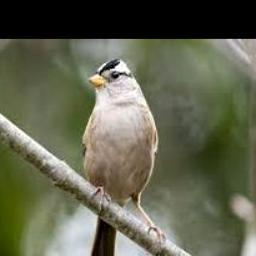Sparrow: (81, 59, 165, 256)
